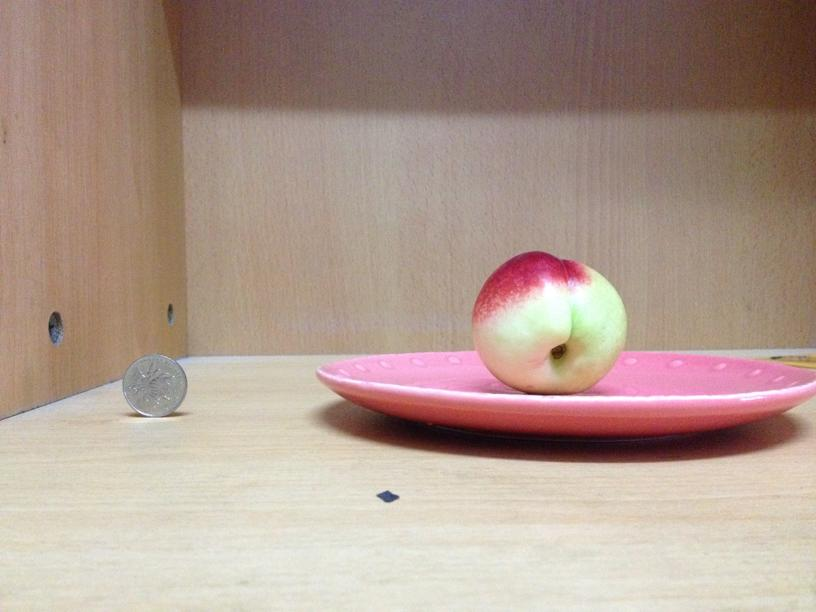coin: (121, 355, 189, 415)
peach: (474, 251, 628, 394)
